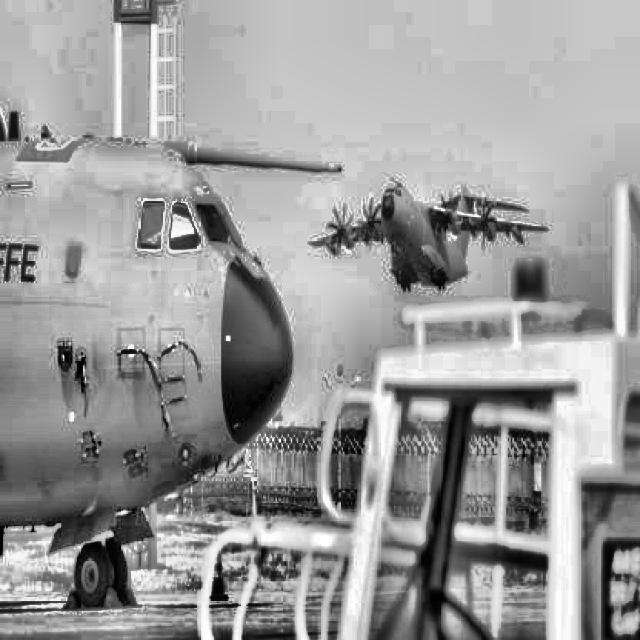A400M: (0, 106, 343, 609), (308, 175, 548, 294)
